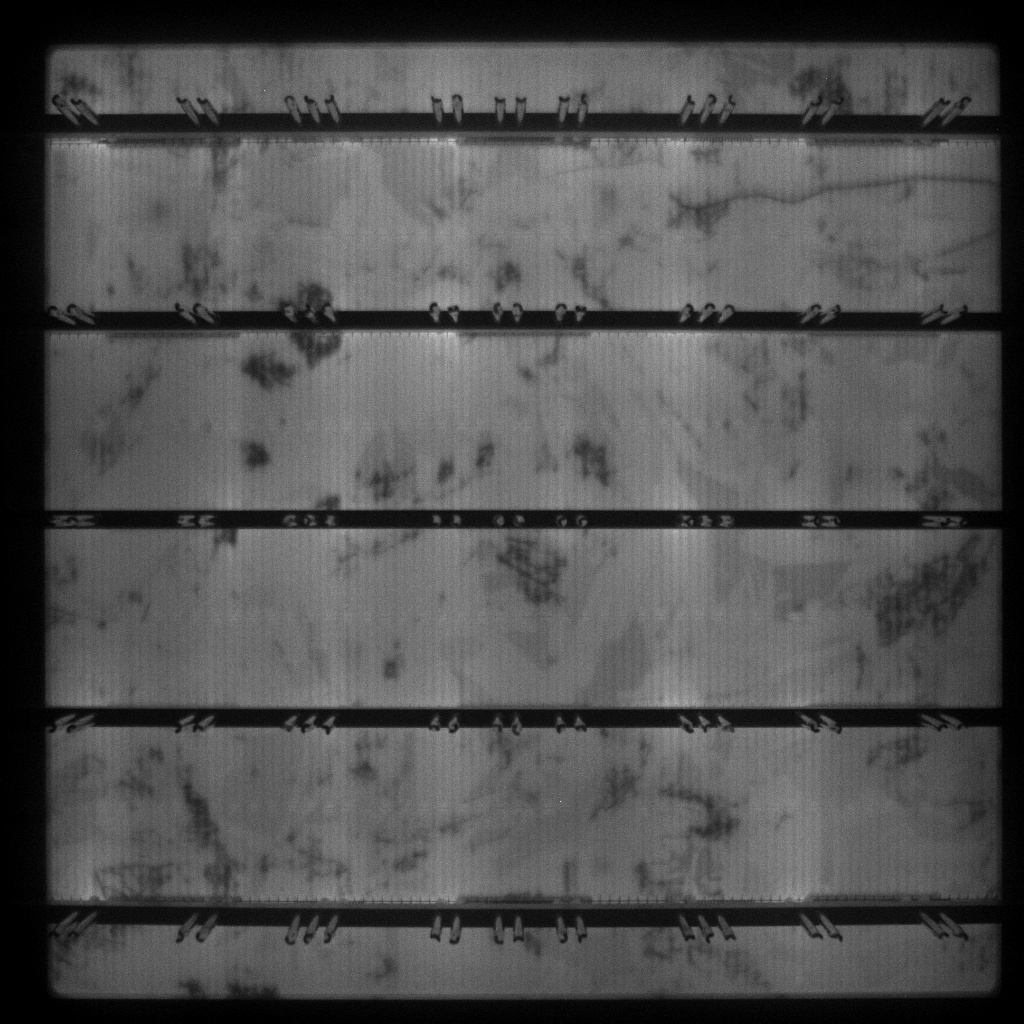crack: (669, 174, 999, 215)
